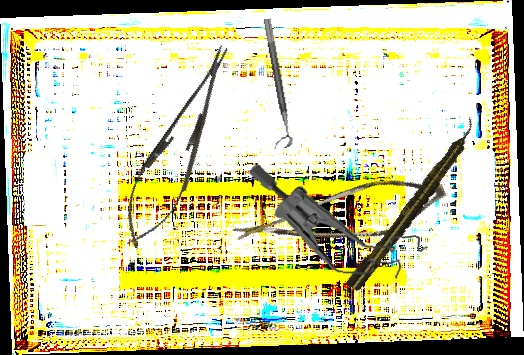Fixation Ring: (251, 18, 295, 150)
Handpiece: (342, 116, 485, 296)
Micro Scissor: (231, 147, 452, 289)
Needle Holder: (109, 36, 249, 257)
Speculum: (242, 162, 434, 284)
